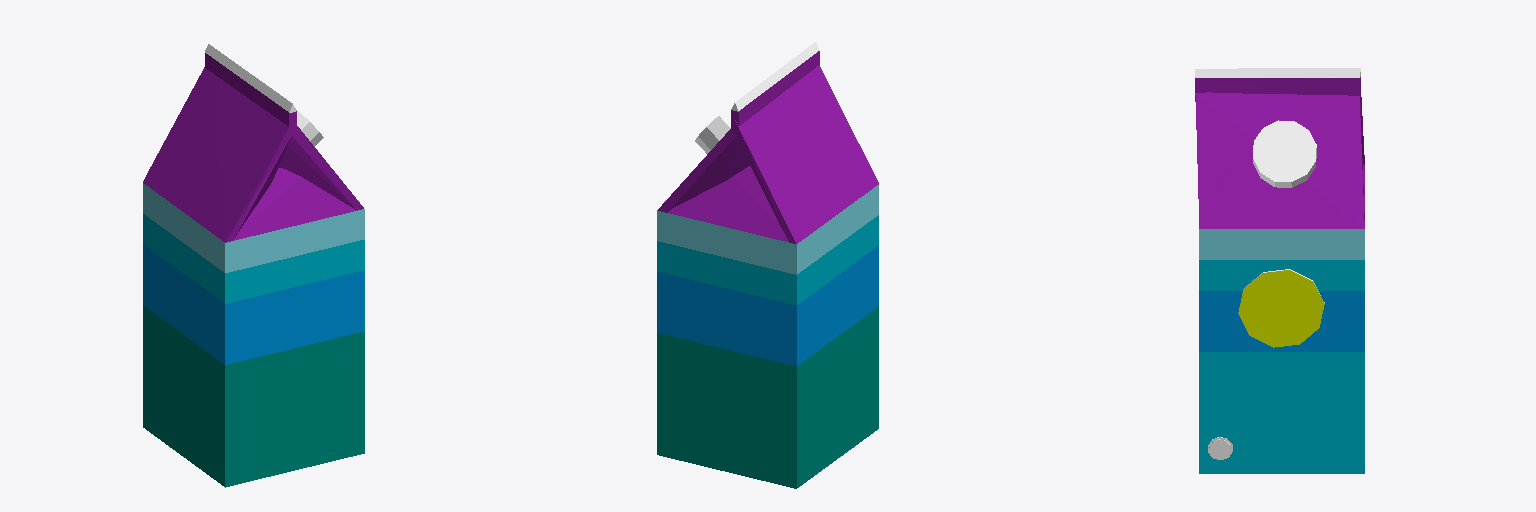
The model's file is LecheEstampillaAmarilla.obj.
The picture shows the model from 3 angles: view 1: azimuth 30°, elevation 25°; view 2: azimuth 150°, elevation 25°; view 3: azimuth 270°, elevation 25°; orthographic projection.
Visible parts, largest first — view 1: group[number redacted], group[number redacted], group[number redacted], group[number redacted], group[number redacted], group[number redacted]; view 2: group[number redacted], group[number redacted], group[number redacted], group[number redacted], group[number redacted], group[number redacted], group[number redacted], group[number redacted]; view 3: group[number redacted], group[number redacted], group[number redacted], group[number redacted], group[number redacted].
Part boxes in pixels (bbox=[...]): group[number redacted]: bbox=[143, 183, 364, 487]; group[number redacted]: bbox=[143, 67, 289, 241]; group[number redacted]: bbox=[233, 168, 356, 240]; group[number redacted]: bbox=[205, 44, 296, 135]; group[number redacted]: bbox=[278, 130, 363, 210]; group[number redacted]: bbox=[225, 136, 290, 242]; group[number redacted]: bbox=[657, 185, 878, 488]; group[number redacted]: bbox=[735, 65, 878, 243]; group[number redacted]: bbox=[668, 166, 788, 241]; group[number redacted]: bbox=[731, 42, 819, 134]; group[number redacted]: bbox=[673, 138, 749, 207]; group[number redacted]: bbox=[658, 129, 736, 212]; group[number redacted]: bbox=[695, 100, 737, 153]; group[number redacted]: bbox=[736, 129, 795, 243]; group[number redacted]: bbox=[1199, 229, 1364, 473]; group[number redacted]: bbox=[1195, 93, 1364, 228]; group[number redacted]: bbox=[1238, 269, 1324, 347]; group[number redacted]: bbox=[1195, 68, 1360, 101]; group[number redacted]: bbox=[1253, 120, 1316, 187].
Size of the model in its own units: 0.377 by 0.9362 by 0.39.